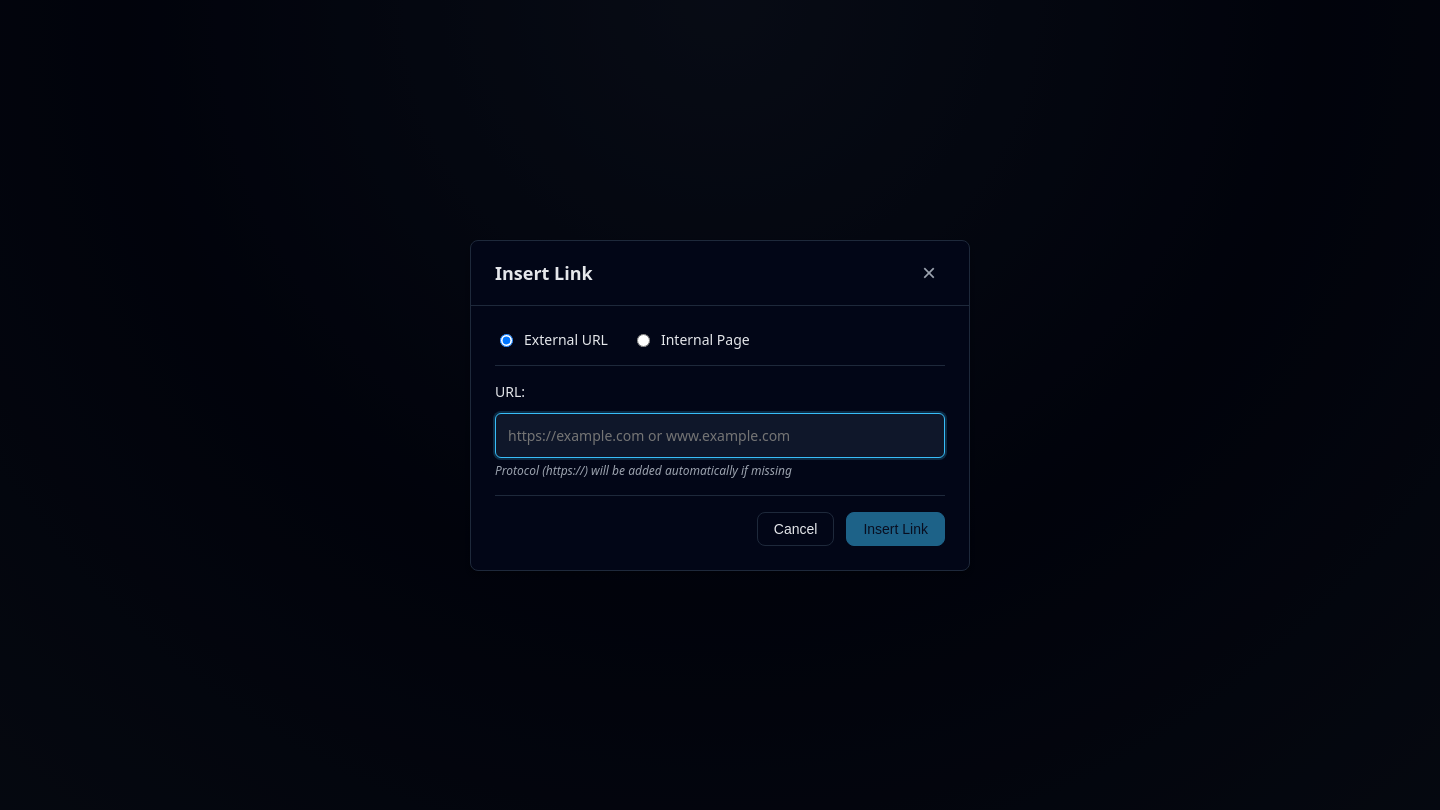
Test: LinkDialog › switches to internal page search when internal radio is selected
Click the radio button labelled "Internal Page" at (644, 340), box [637,334,650,347]
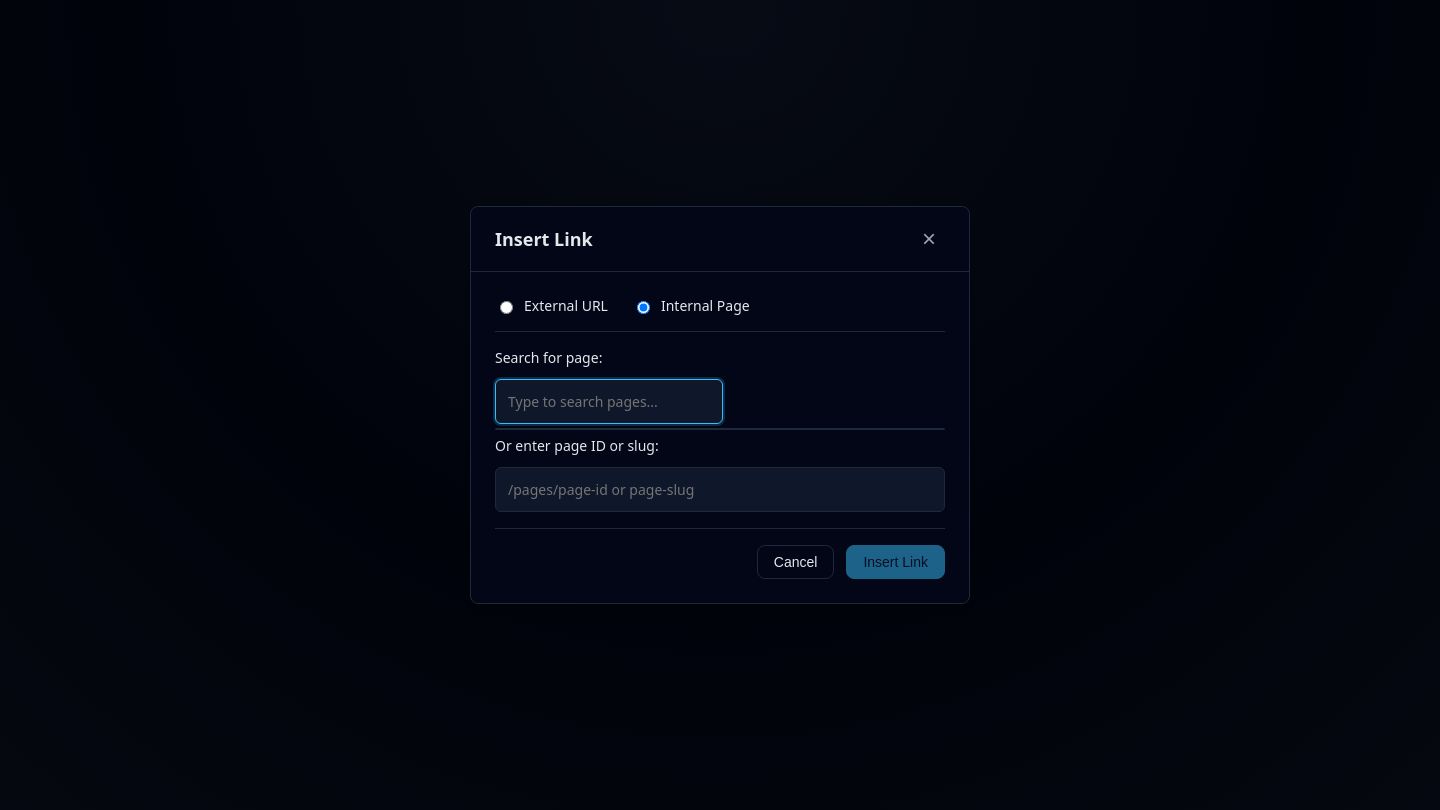
expect the field labelled "Search for page:" is shown: met, box [495,379,723,424]
